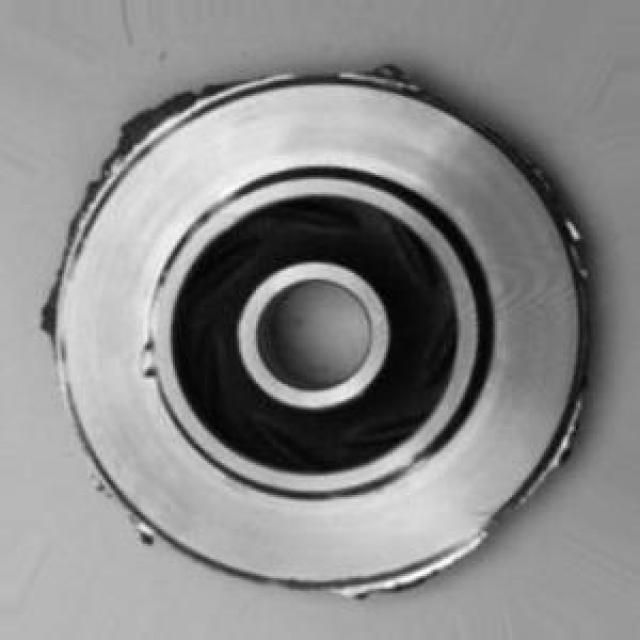Defect: (136, 339, 166, 379)
